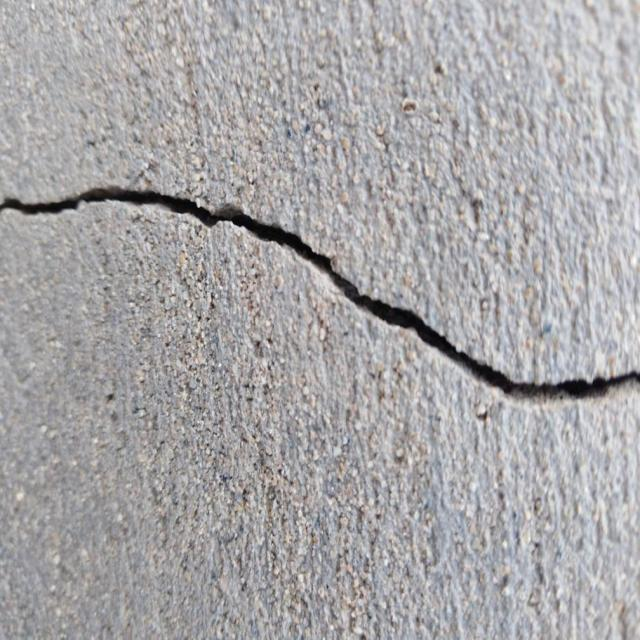diagonal crack: (0, 181, 639, 404)
